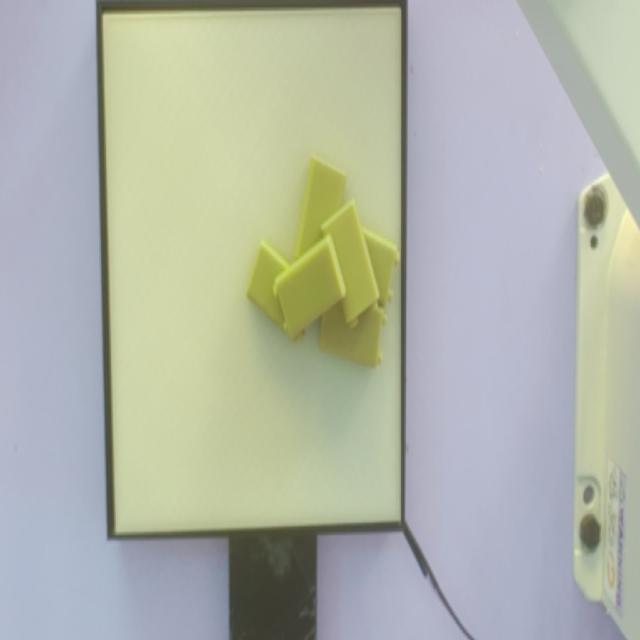bateria: (273, 232, 347, 340)
mesa: (96, 1, 407, 540)
